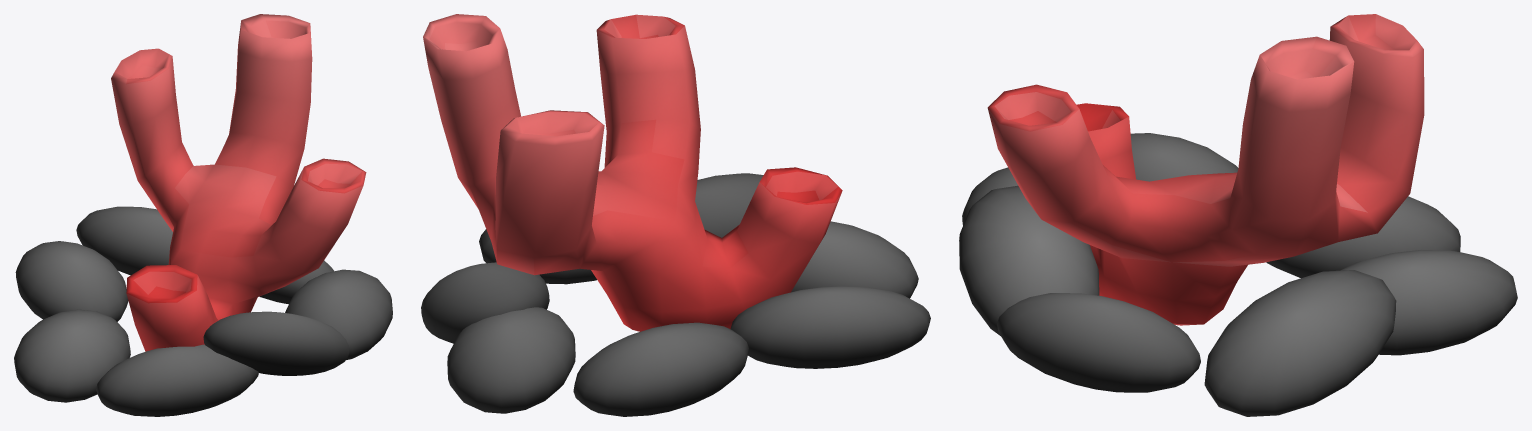
File: Coral3.fbx
3 renders of one model, left to right at view 1: azimuth 30°, elevation 25°; view 2: azimuth 150°, elevation 25°; view 3: azimuth 270°, elevation 25°, orthographic. The views are drawn at different scales.
Visible parts, largest first — view 1: Cube.001, Piedras de coral.001; view 2: Cube.001, Piedras de coral.001; view 3: Cube.001, Piedras de coral.001.
Boxes of the visible parts, <box> form: Cube.001: <box>111,14,366,351</box>; Piedras de coral.001: <box>14,206,392,416</box>; Cube.001: <box>423,14,842,331</box>; Piedras de coral.001: <box>421,173,930,416</box>; Cube.001: <box>987,14,1424,325</box>; Piedras de coral.001: <box>959,133,1517,416</box>.
Size of the model in its own units: 941 by 658 by 963.
Materials: 2 (2 with a texture image).
